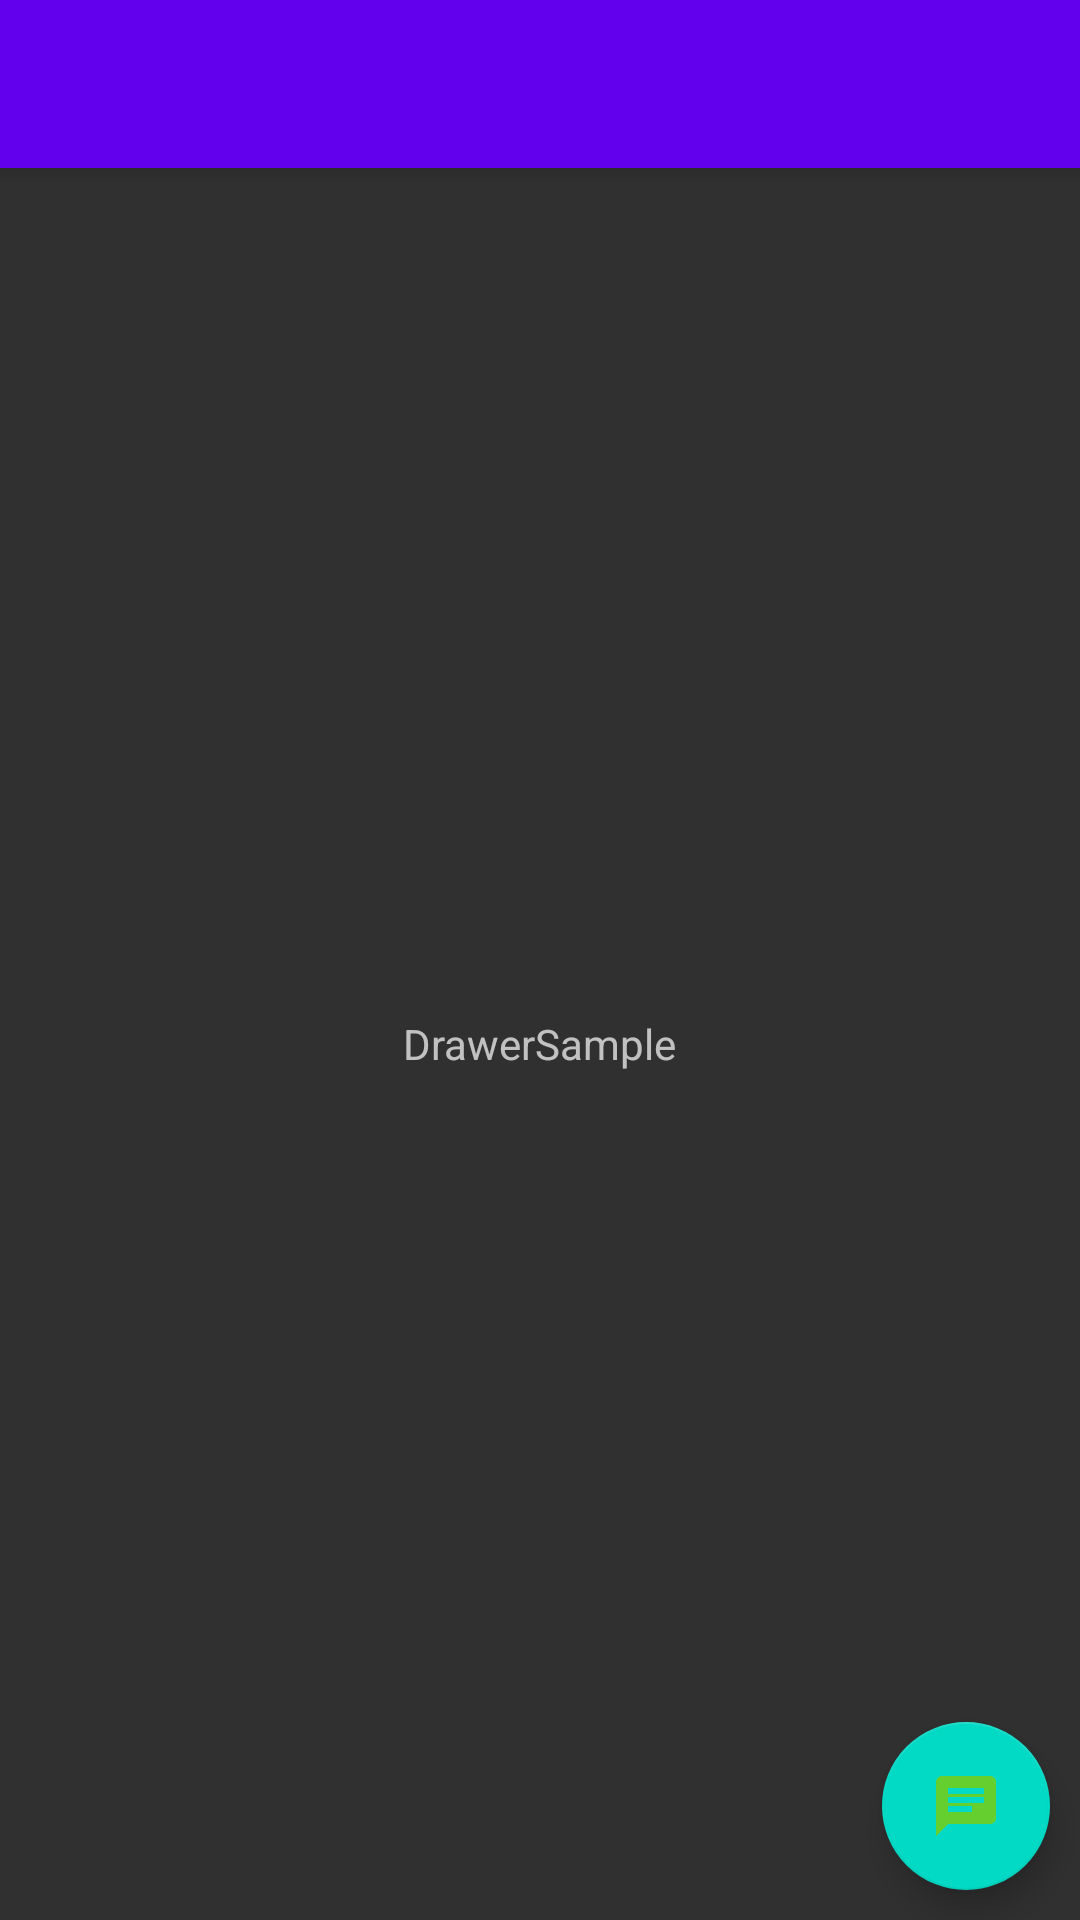

Point at icon controls on the screen. Image size 1080 x 1920, points as (x,y).
chat: (966,1806)
